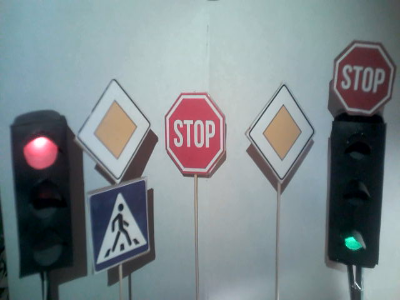crosswalk: (89, 187, 150, 263)
priority_road: (77, 81, 150, 182), (246, 85, 315, 181)
stop: (166, 93, 224, 173), (333, 44, 393, 114)
trafficlight_green: (330, 123, 381, 260)
trafficlight_red: (10, 123, 65, 264)
